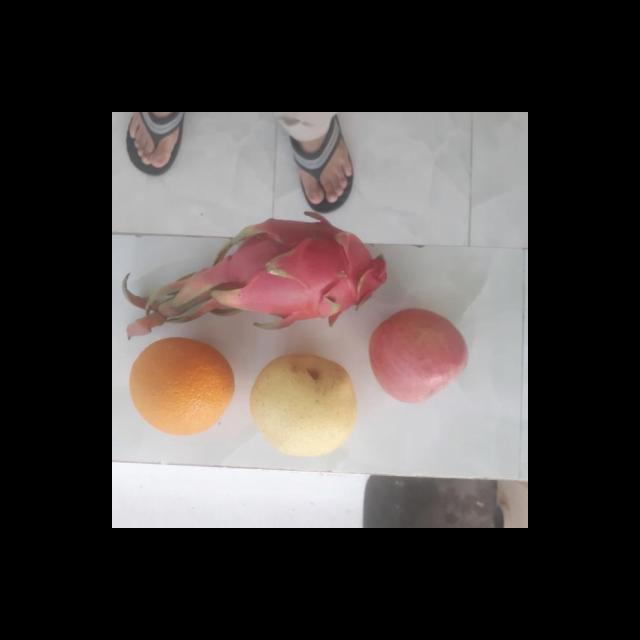apple: (370, 310, 472, 404)
orange: (122, 336, 238, 436)
pear: (248, 356, 363, 456)
pitaya: (207, 219, 400, 329)
